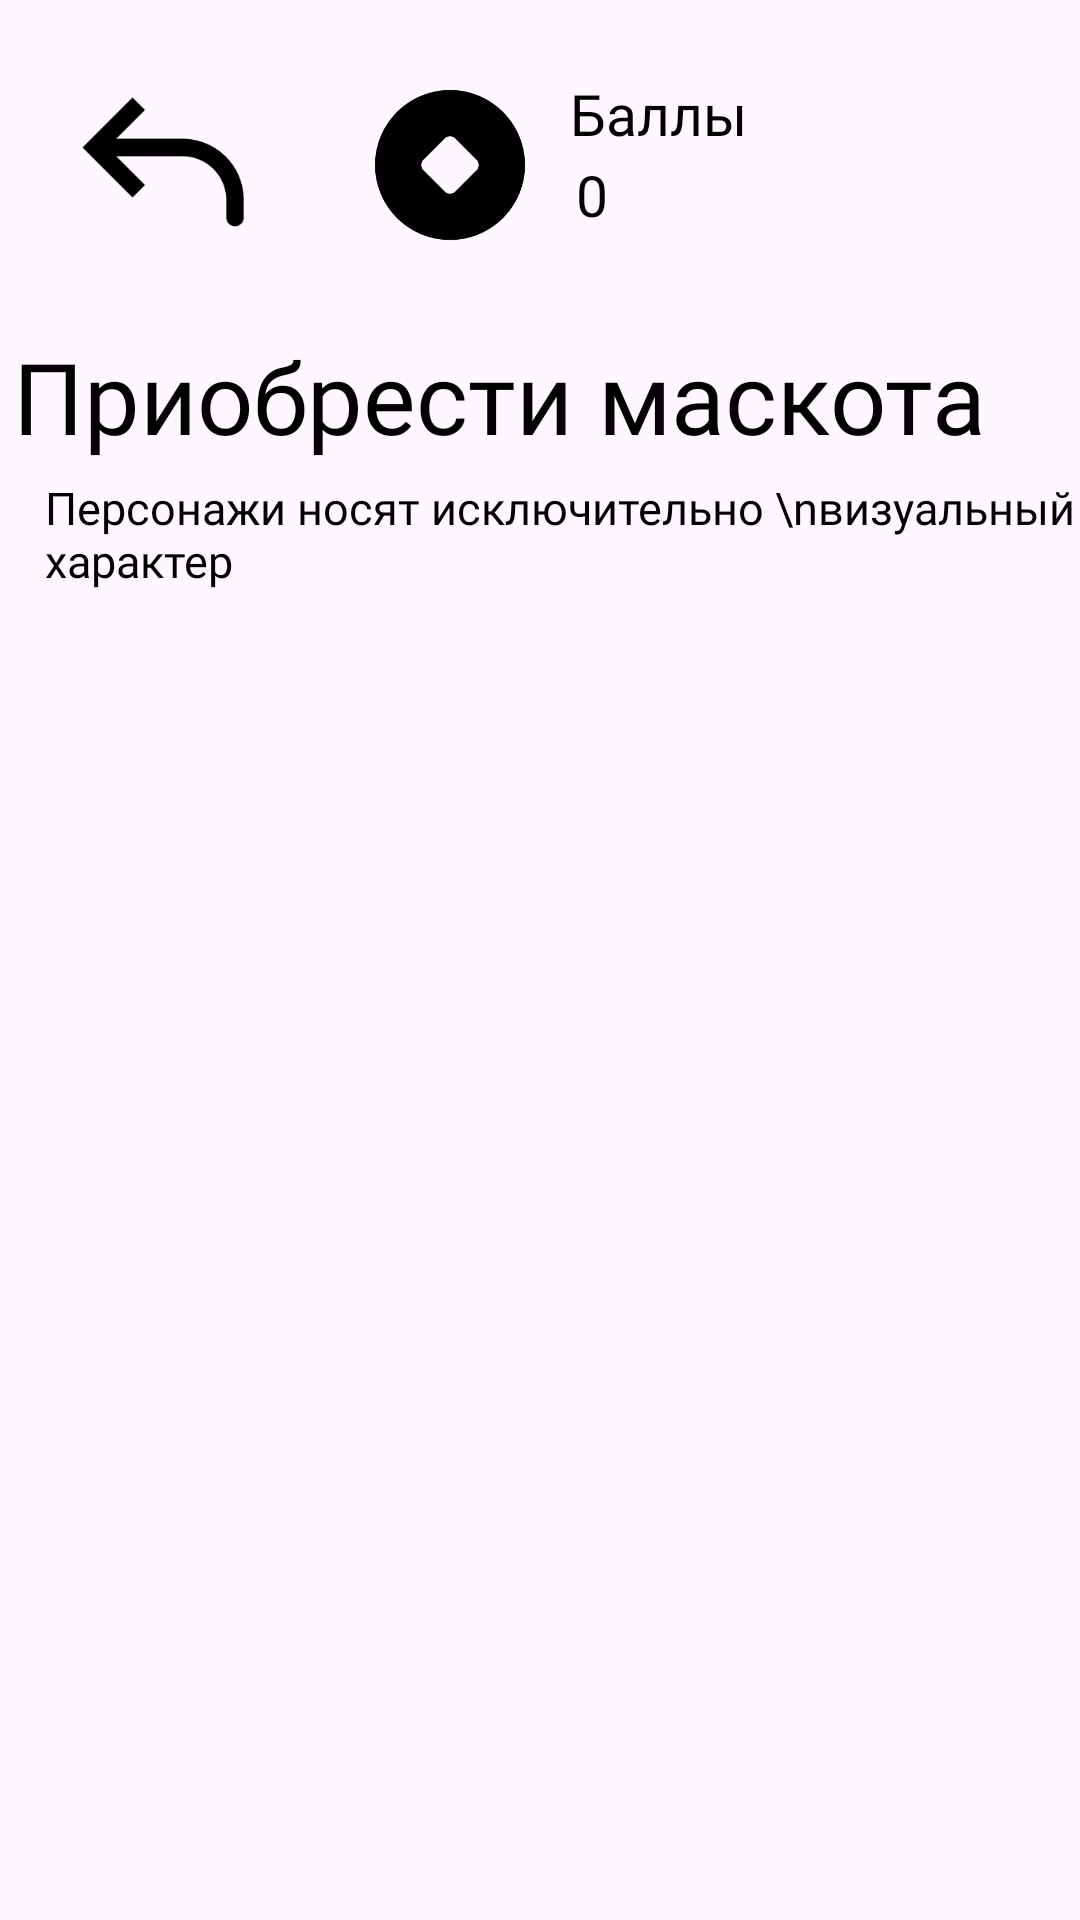

Screen size 1080*1920. Icon name, then its box in pixels as bbox(x1, y1, x2, y2):
back: bbox(82, 97, 244, 227)
coin: bbox(375, 90, 525, 240)
